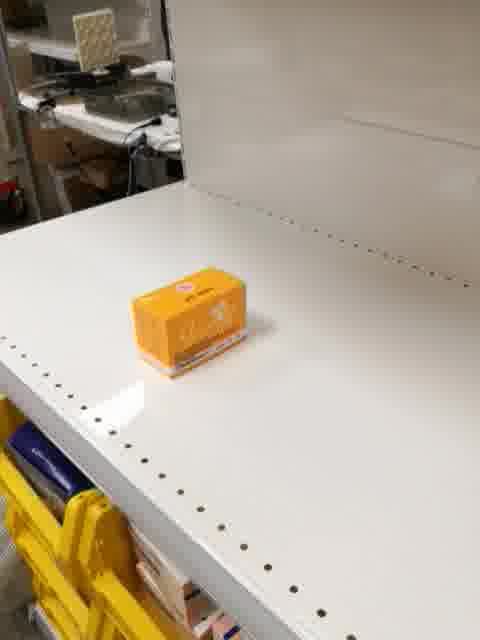jasminetea: (131, 267, 245, 380)
